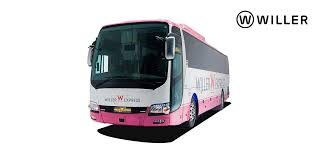bus: (87, 18, 231, 130)
